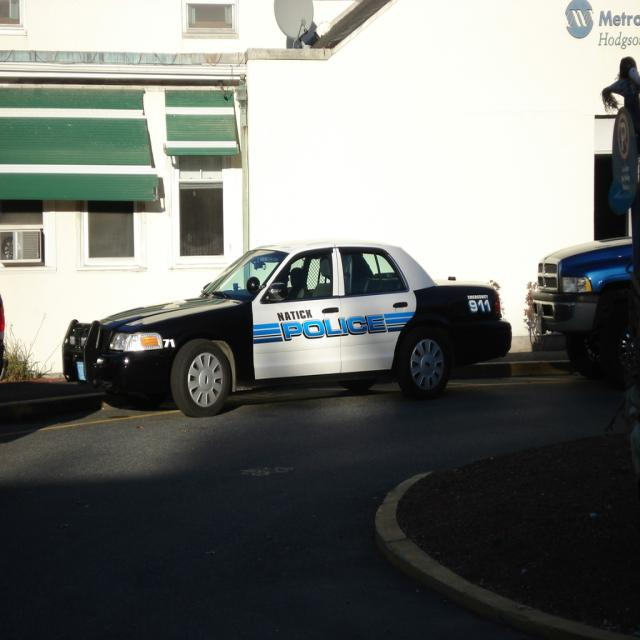car: (60, 236, 510, 415)
